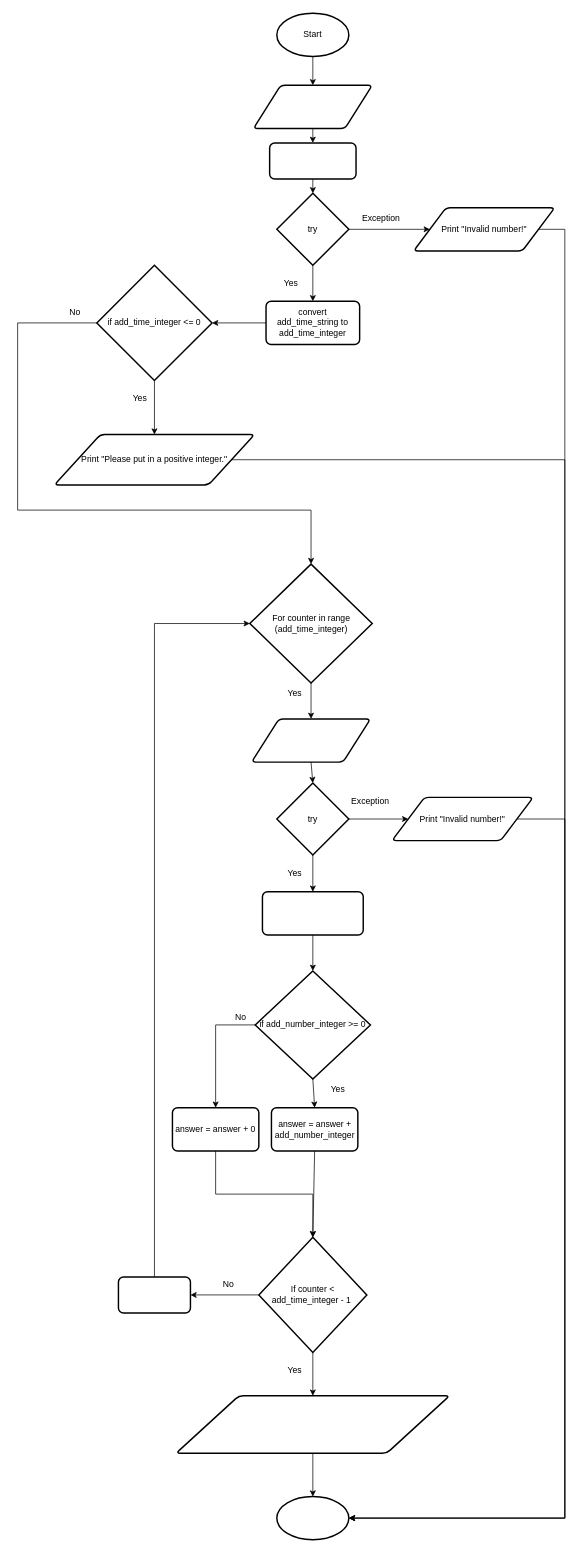
Image size: 583x1552. Some labels were removed from this diagram. The shapes that lost their labels are listed below. From the top down, each one's centre as x and y in pixels, then its label:
(x=312, y=106): Get add_time_string
(x=312, y=160): answer = 0
(x=311, y=740): Get add_number_string
(x=312, y=913): convert add_number_string to add_number_integer
(x=154, y=1294): continue
(x=312, y=1424): Print "The sum of just the positive numbers is answer."
(x=312, y=1517): Stop
